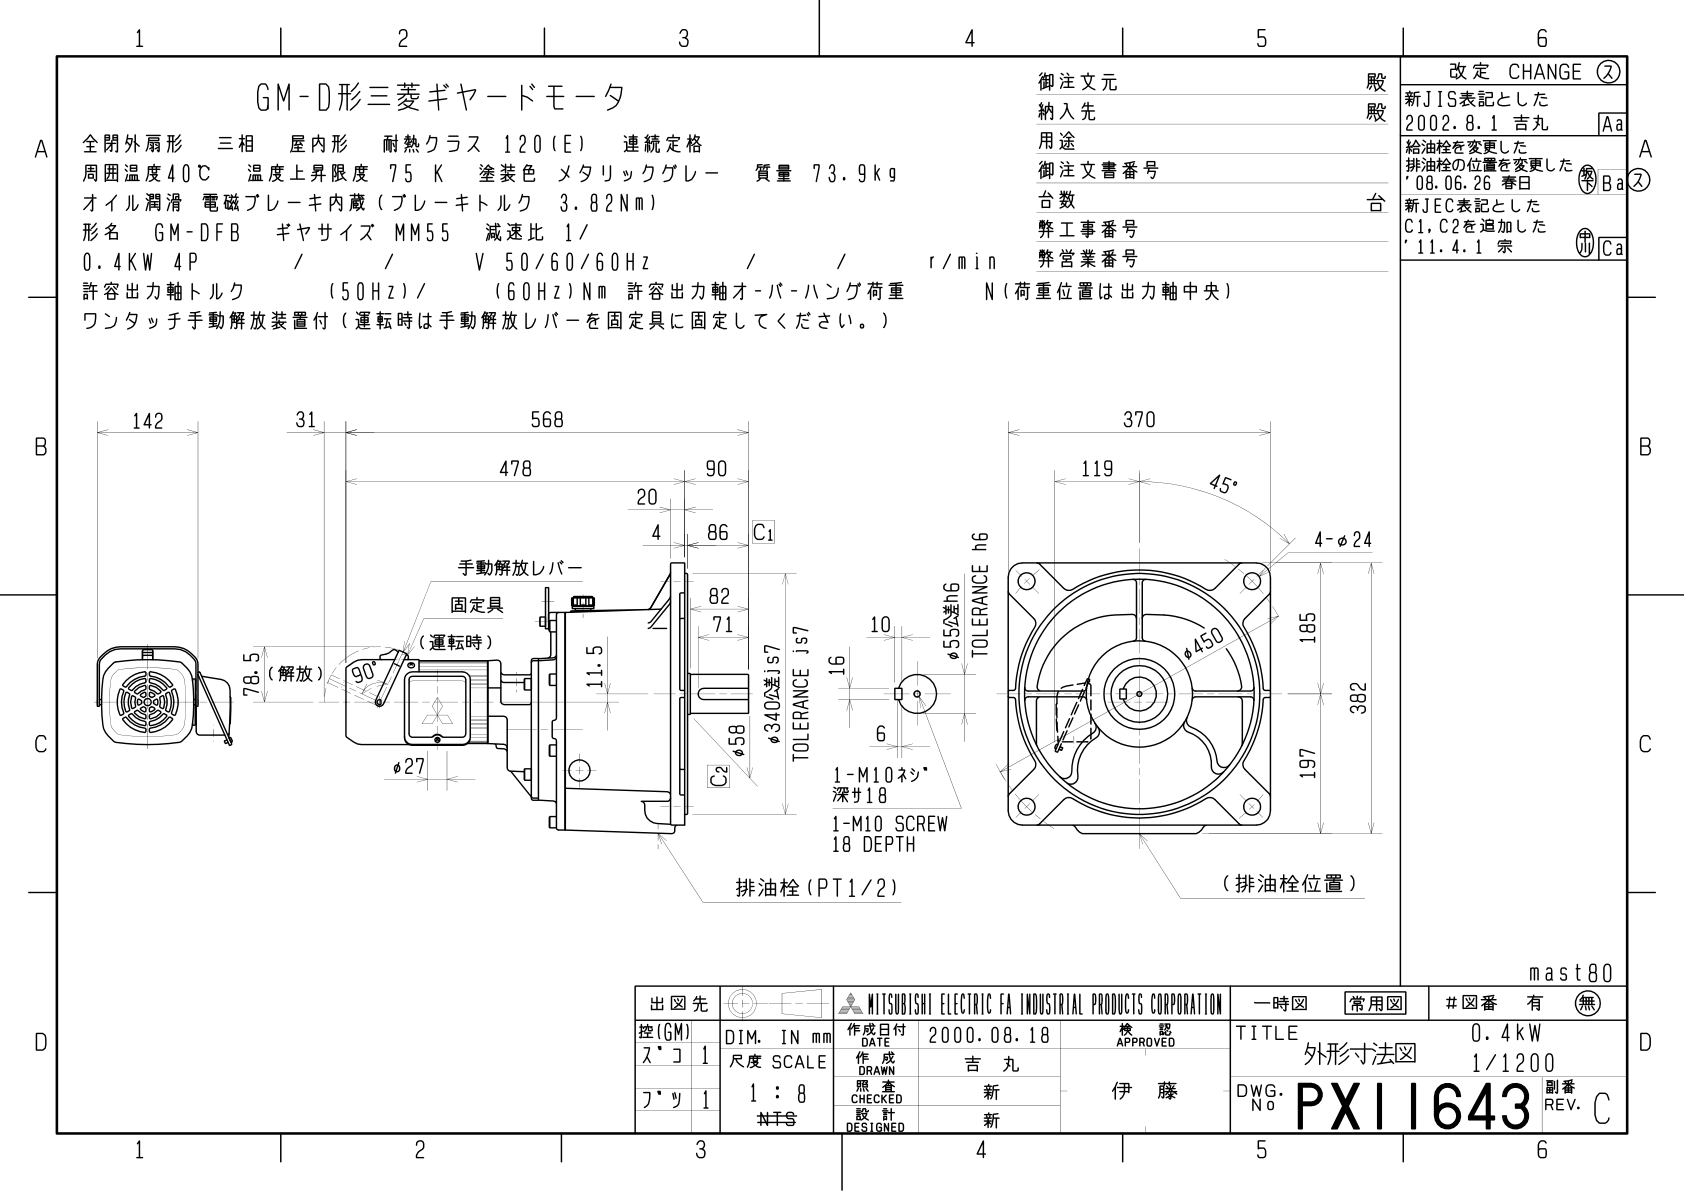GM_D_手動解放ブレーキ＿三相_フランジ: (3, 4, 1684, 1191)
